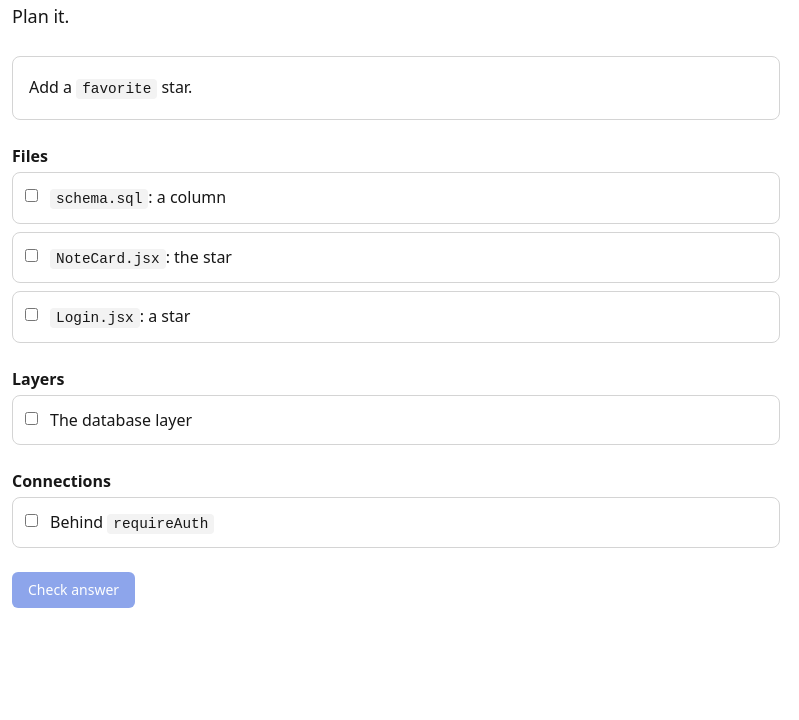
BuildInput › says which items were needed once the answer is shown
Click the checkbox labelled "NoteCard.jsx: the star" at (32, 255), box [25, 249, 38, 262]
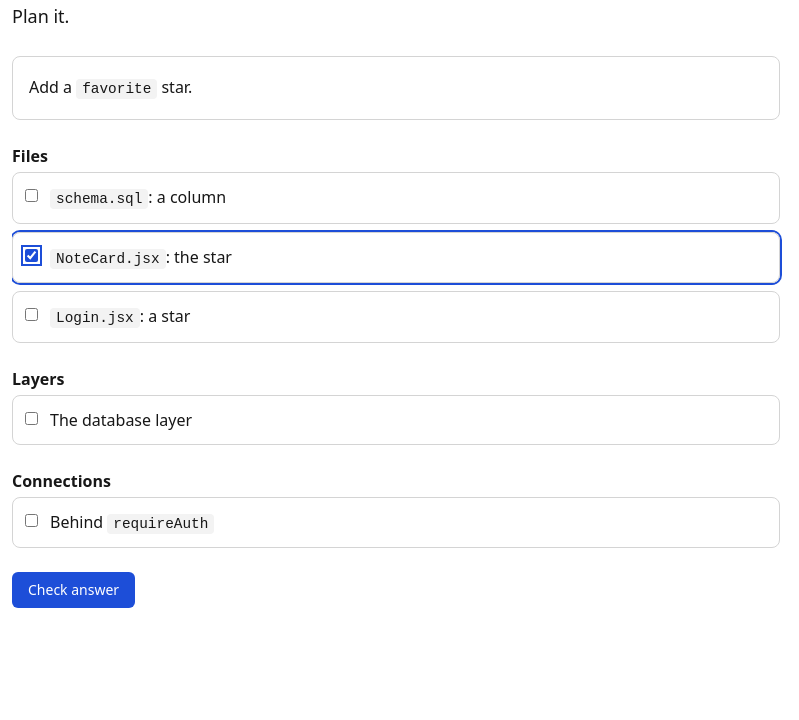
Click the checkbox labelled "Login.jsx: a star" at (32, 315), box [25, 308, 38, 321]
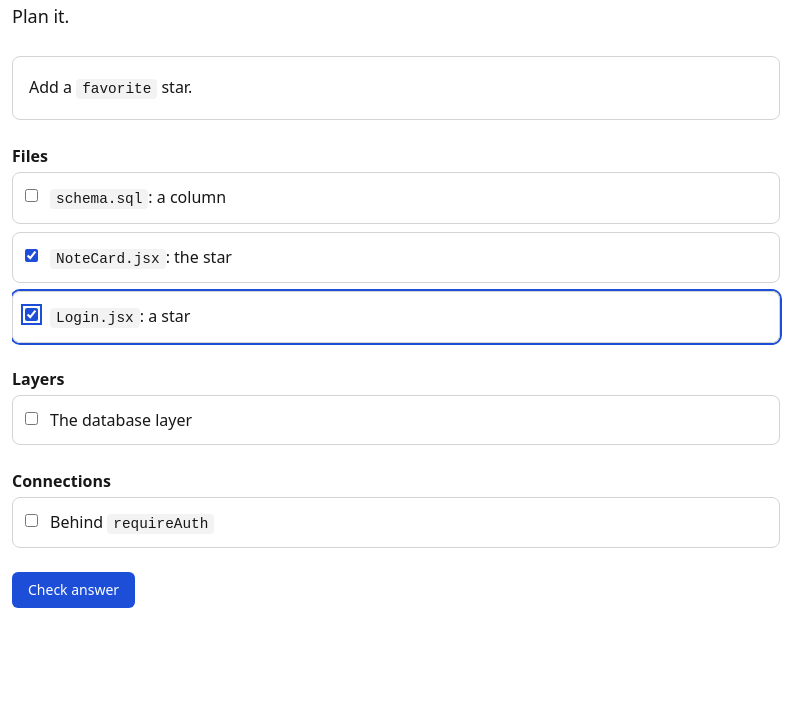
Click the button "Check answer" at (74, 590), box [12, 572, 135, 608]
(page scrolled)
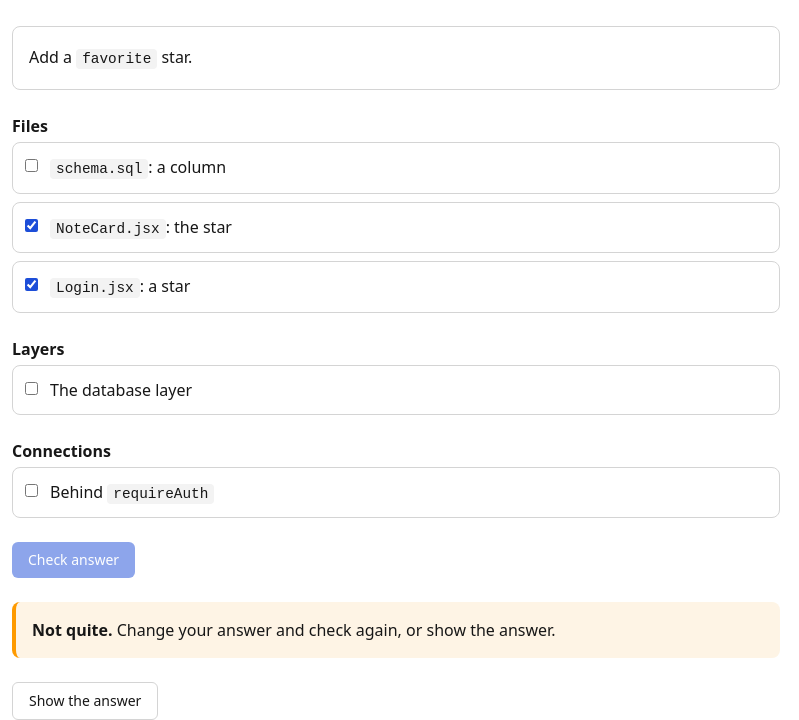
Check: the text "Needed" is not shown
Check: the text "Not quite." is shown, box [32, 619, 112, 641]
Click the button "Show the answer" at (85, 701), box [12, 682, 158, 719]
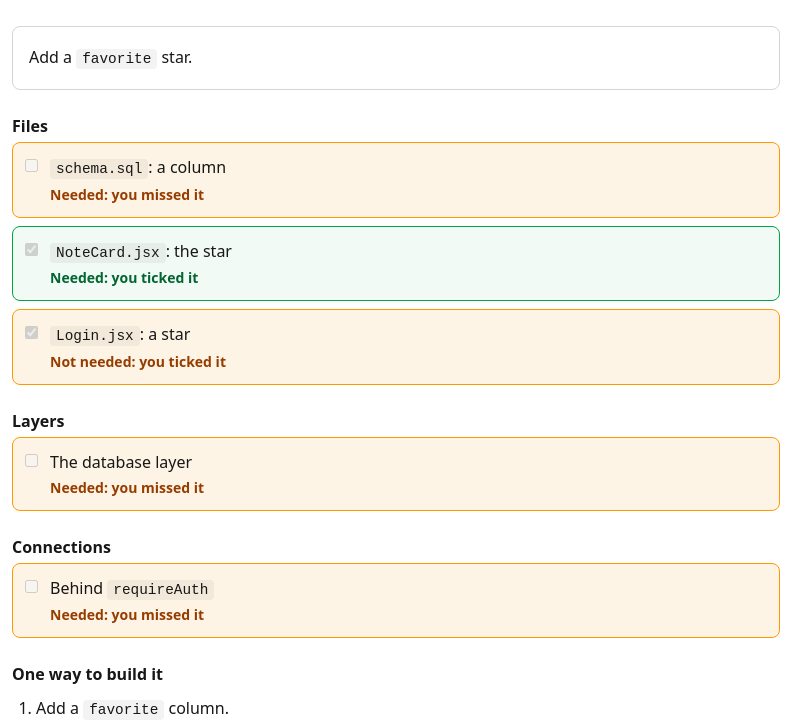
Check: the checkbox labelled "schema.sql: a column Needed: you missed it" is disabled, box [25, 159, 38, 172]
Check: the checkbox labelled "NoteCard.jsx: the star Needed: you ticked it" is disabled, box [25, 243, 38, 256]
Check: the checkbox labelled "Login.jsx: a star Not needed: you ticked it" is disabled, box [25, 326, 38, 339]
